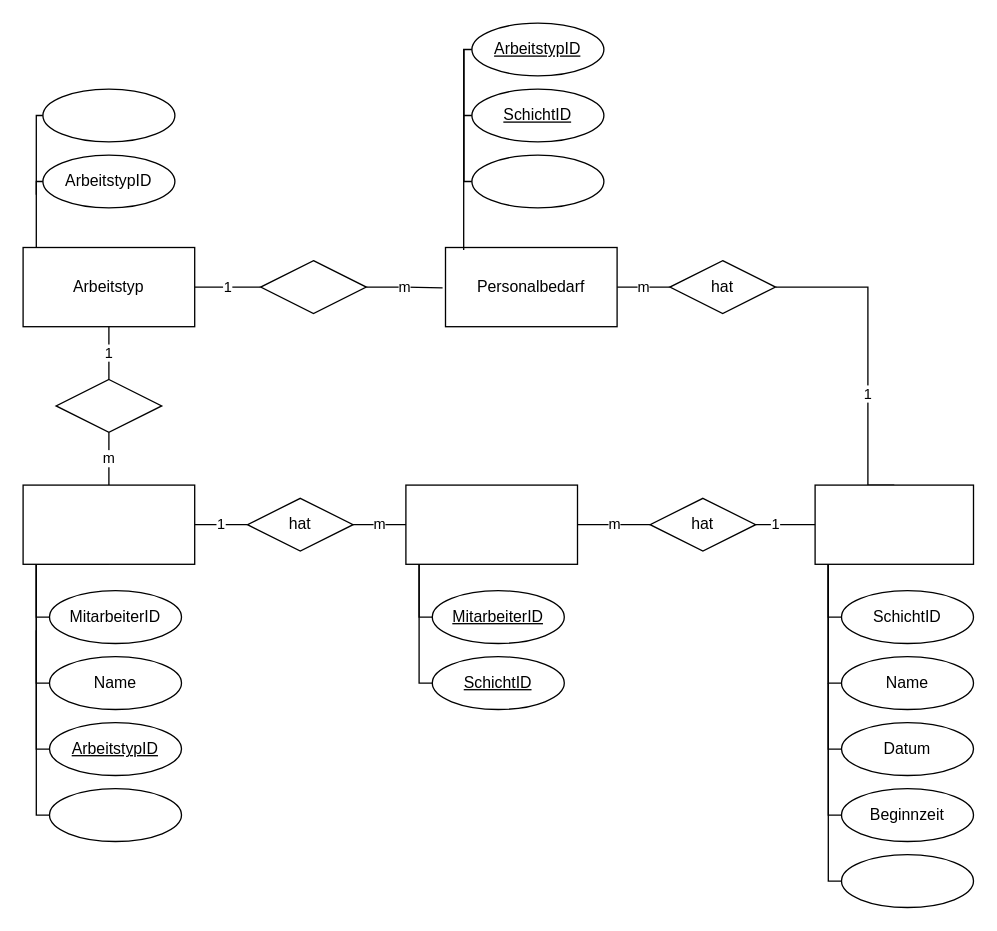
Image size: 997x931. Some labels were removed from this diagram. The shapes that lost their labels are listed below. From the top down, each one's box as (x1, y1, x2, y2) in pixels, then its label:
(42, 88, 175, 142): Bezeichnung
(471, 154, 604, 208): Benötigte Arbeiter
(259, 259, 366, 314): bedarft
(55, 378, 162, 432): führt aus
(22, 484, 195, 564): Mitarbeiter
(405, 484, 578, 564): Besetzung
(814, 484, 974, 564): Schicht
(48, 787, 182, 842): Arbeitsstunden
(840, 853, 974, 908): Endzeit
